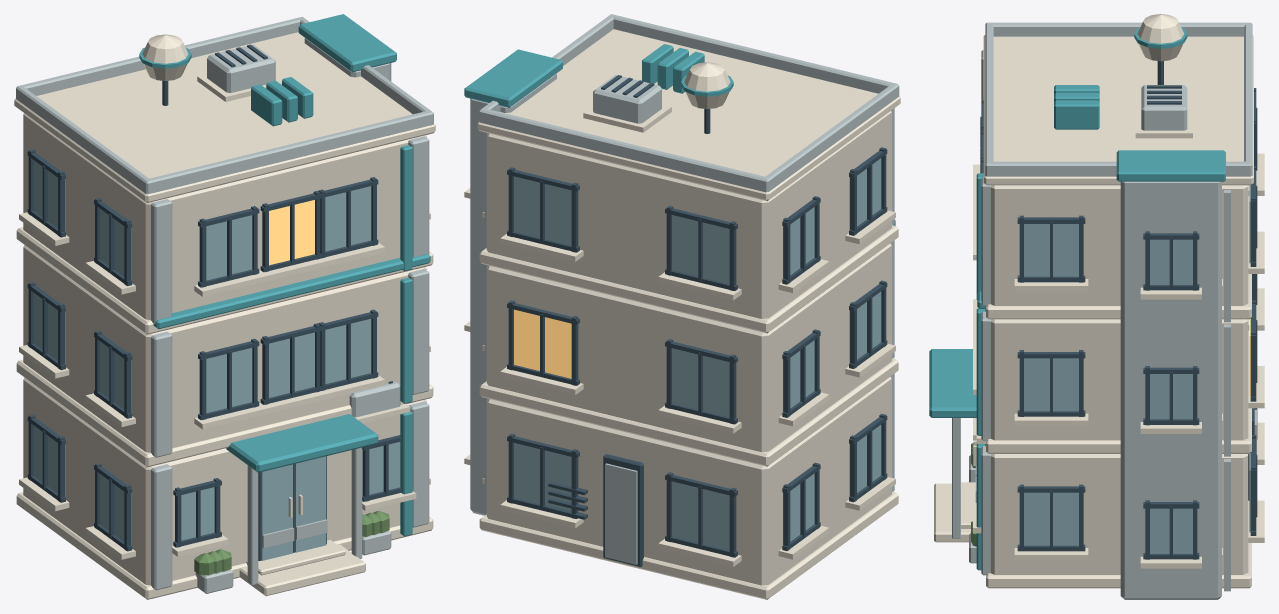
Rendered from development-l03.glb.
The picture shows the model from 3 angles, left to right: view 1: azimuth 30°, elevation 25°; view 2: azimuth 150°, elevation 25°; view 3: azimuth 270°, elevation 25°; orthographic projection.
Parts seen in each view (by area): view 1: development_L03; view 2: development_L03; view 3: development_L03.
Part boxes in pixels (box(x1,y1,x2,y2)): development_L03: box(14, 14, 435, 599); development_L03: box(464, 14, 900, 599); development_L03: box(929, 14, 1264, 599).
Bounding box in the file's own units: 5.64 × 7.63 × 4.8.
